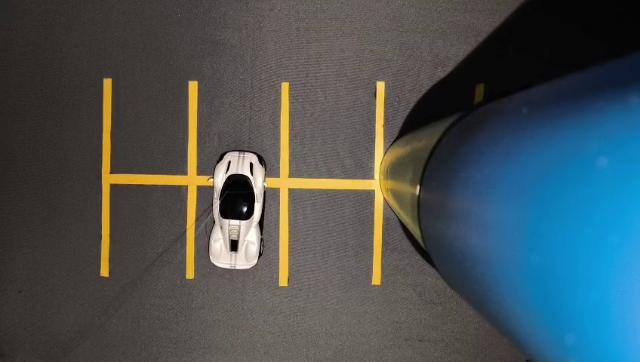toy_car: (181, 128, 288, 285)
